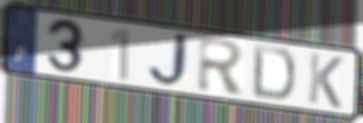1: (109, 26, 132, 82)
3: (45, 15, 88, 76)
D: (250, 42, 298, 103)
J: (147, 31, 195, 89)
K: (306, 50, 346, 111)
R: (196, 35, 248, 97)
